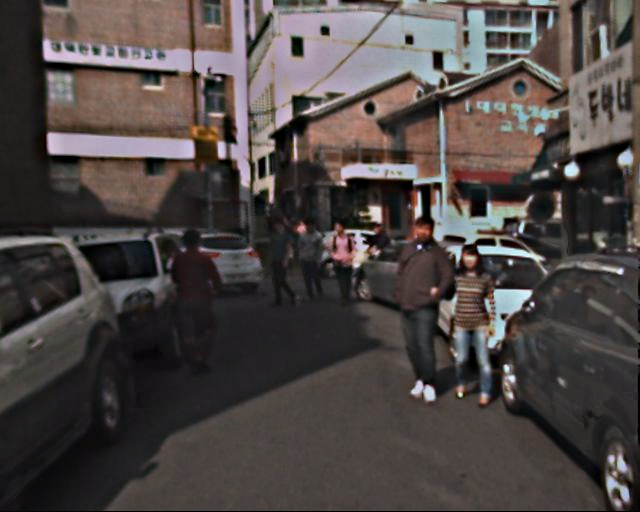person: (386, 216, 461, 400), (438, 246, 504, 406), (164, 228, 226, 379), (263, 220, 300, 310), (324, 221, 359, 307), (293, 218, 327, 301), (364, 220, 392, 289)
